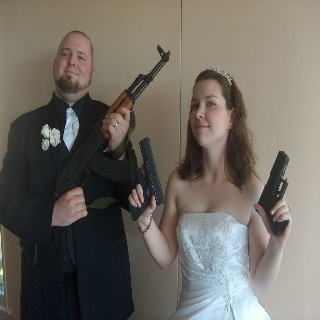pistol: (255, 150, 294, 237), (127, 135, 165, 222)
rifle: (51, 45, 172, 198)
